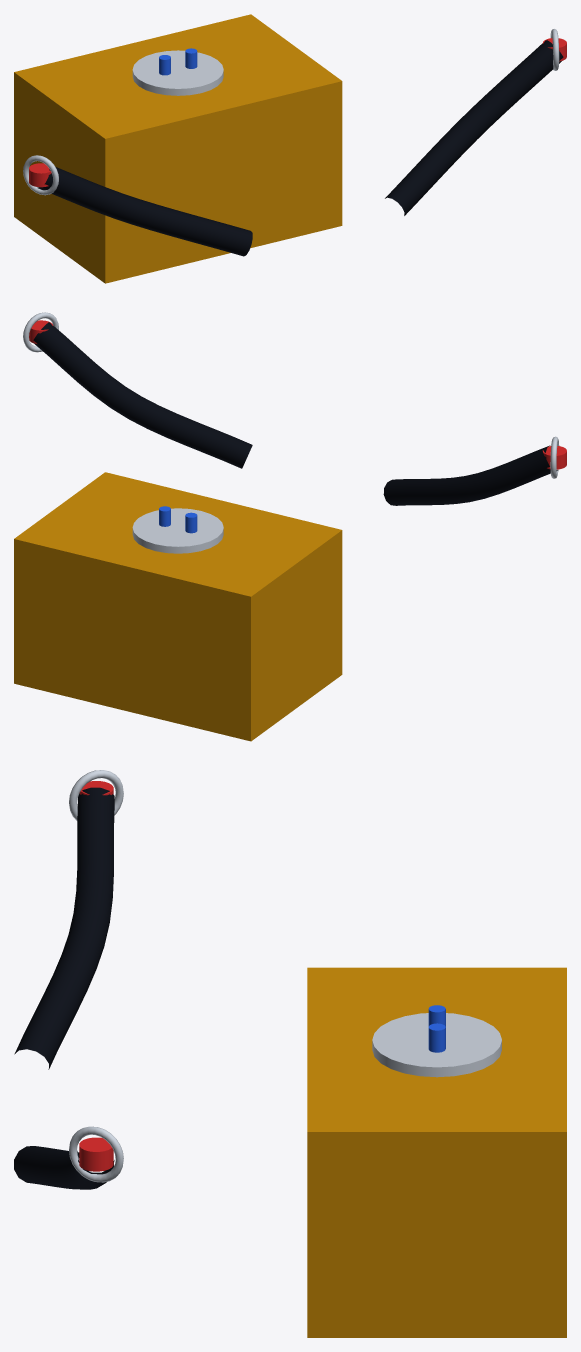
Rendered from fuel_cell_system.glb.
The picture shows the model from 3 angles, top to bottom: view 1: azimuth 30°, elevation 25°; view 2: azimuth 150°, elevation 25°; view 3: azimuth 270°, elevation 25°; orthographic projection. The views are drawn at different scales.
Parts seen in each view (by area): view 1: Fuel_Cell_Refueling_System_Assembly; view 2: Fuel_Cell_Refueling_System_Assembly; view 3: Fuel_Cell_Refueling_System_Assembly.
Boxes of the visible parts, left/top/right/bottom form: Fuel_Cell_Refueling_System_Assembly: left=14, top=14, right=566, bottom=283; Fuel_Cell_Refueling_System_Assembly: left=14, top=312, right=566, bottom=741; Fuel_Cell_Refueling_System_Assembly: left=14, top=770, right=566, bottom=1337.
Bounding box in the file's own units: 1.62 × 0.626 × 1.02.
